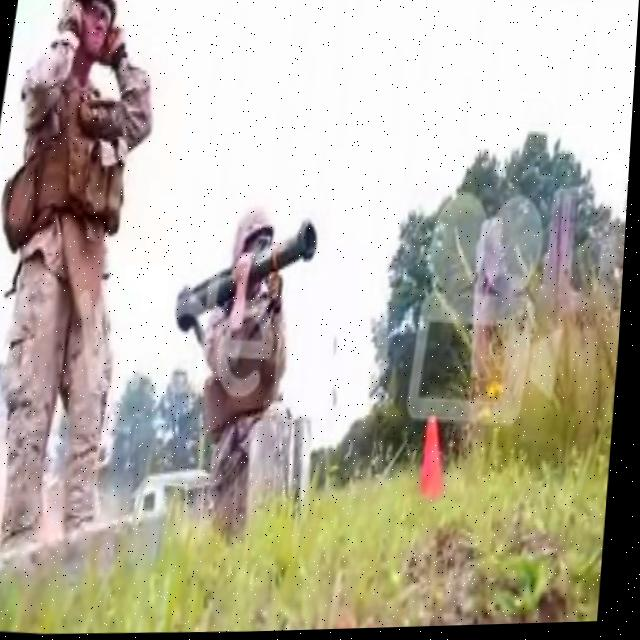rocket: (177, 206, 326, 345)
